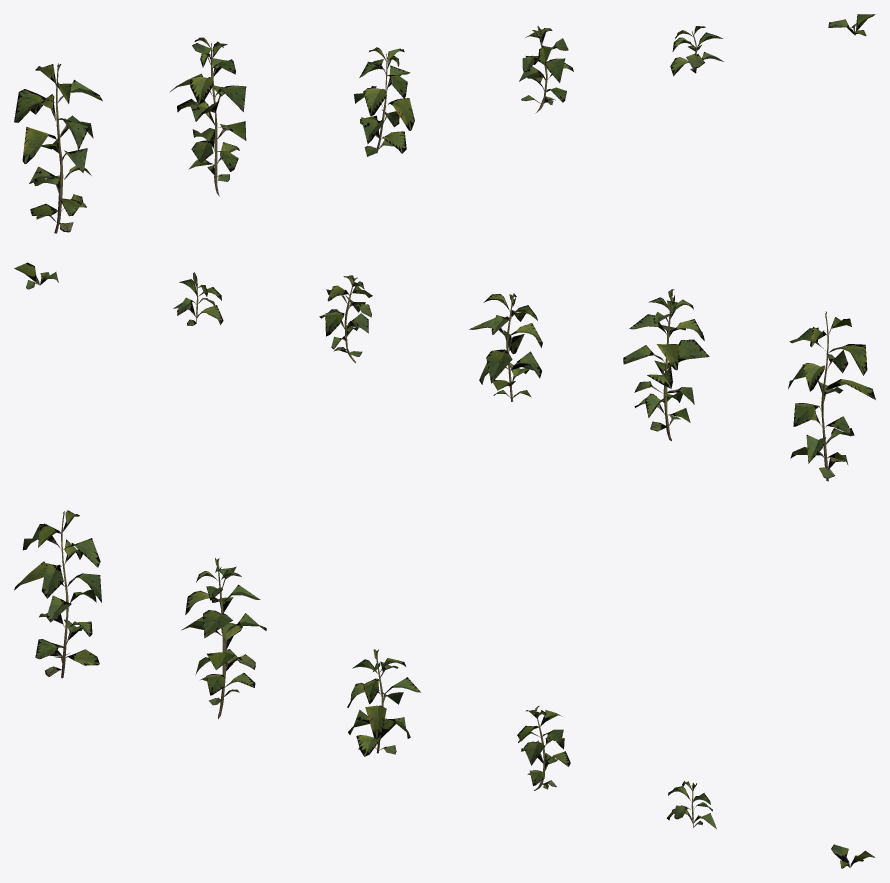
Rendered from nettle_plant.glb.
3 views of the same model, one above another, from view 1: azimuth 30°, elevation 25°; view 2: azimuth 150°, elevation 25°; view 3: azimuth 330°, elevation 25° (orthographic).
Visible parts, largest first — view 1: nettle_plant_medium_a_LOD0; view 2: nettle_plant_medium_a_LOD0; view 3: nettle_plant_medium_a_LOD0.
Boxes of the visible parts, box(x1,y1,x2,y2) form: nettle_plant_medium_a_LOD0: box(14, 14, 875, 233); nettle_plant_medium_a_LOD0: box(14, 262, 875, 481); nettle_plant_medium_a_LOD0: box(14, 510, 874, 868).
Size of the model in its own units: 1.08 by 0.2049 by 0.0947.
Materials: 1 (1 with a texture image).
